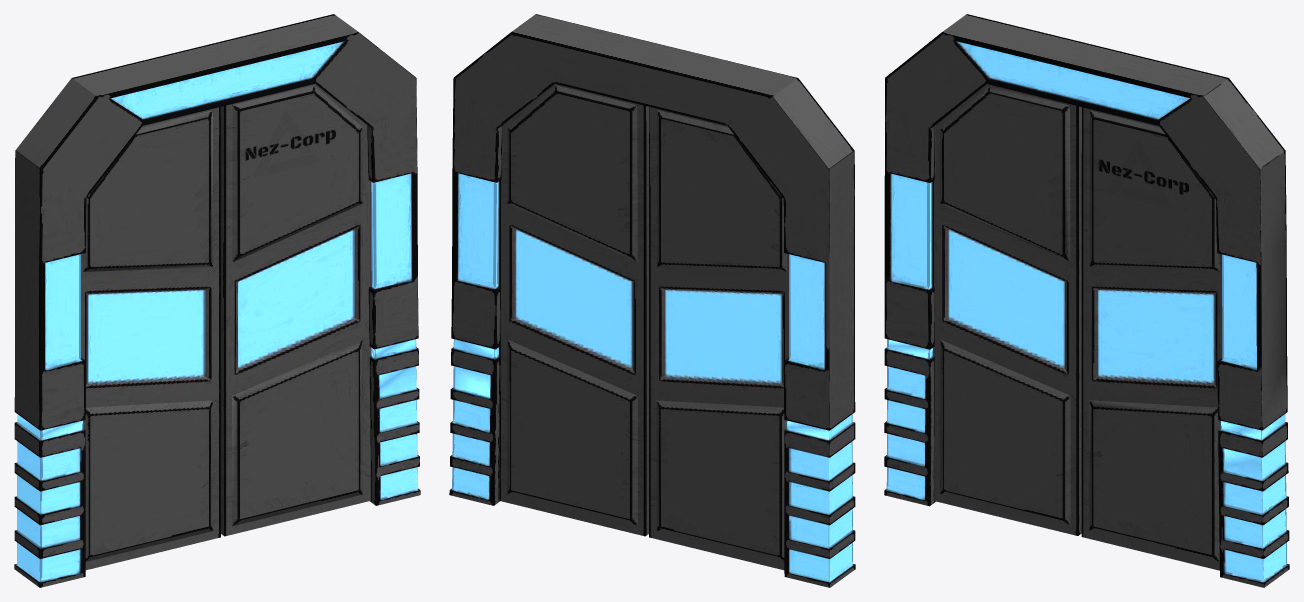
The model's file is token-gate.glb.
The picture shows the model from 3 angles, left to right: view 1: azimuth 30°, elevation 25°; view 2: azimuth 150°, elevation 25°; view 3: azimuth 330°, elevation 25°; orthographic projection.
Parts seen in each view (by area): view 1: DoorFrame, DoorL, DoorR; view 2: DoorFrame, DoorL, DoorR; view 3: DoorFrame, DoorR, DoorL.
Part boxes in pixels (bbox=[...]): DoorFrame: bbox=[14, 14, 420, 587]; DoorL: bbox=[220, 84, 370, 536]; DoorR: bbox=[81, 107, 220, 570]; DoorFrame: bbox=[449, 14, 855, 587]; DoorL: bbox=[499, 84, 649, 536]; DoorR: bbox=[649, 107, 788, 570]; DoorFrame: bbox=[884, 14, 1289, 587]; DoorR: bbox=[932, 84, 1081, 535]; DoorL: bbox=[1081, 107, 1222, 570].
Size of what is drawn, in the model's own units: 1.97 by 2.36 by 0.2283.
Materials: 1 (1 with a texture image).
